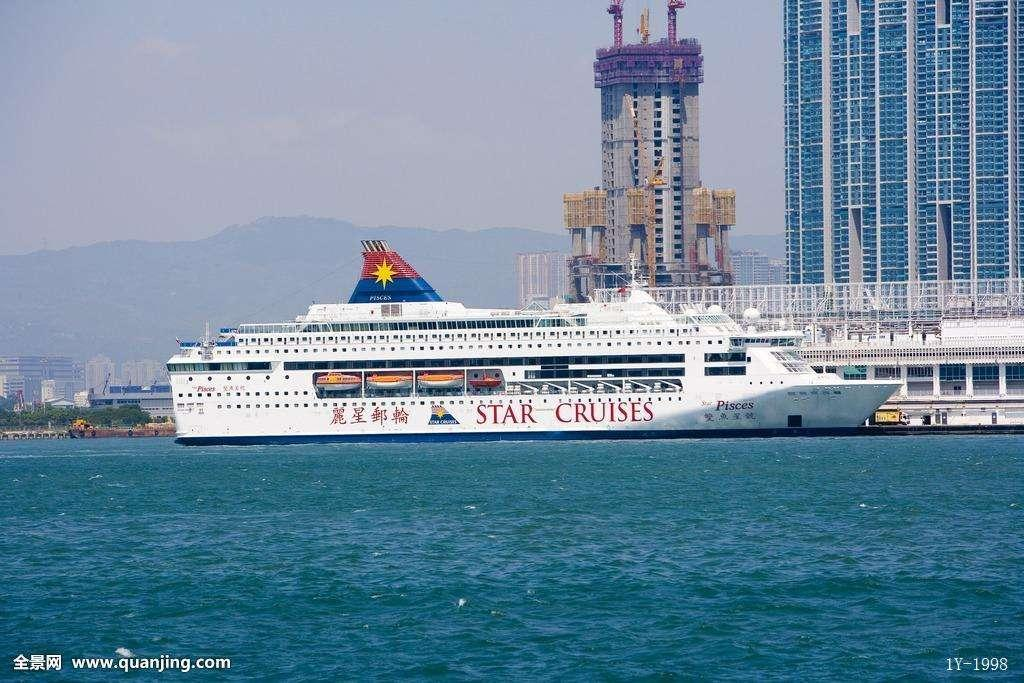youlun: (166, 237, 912, 448)
